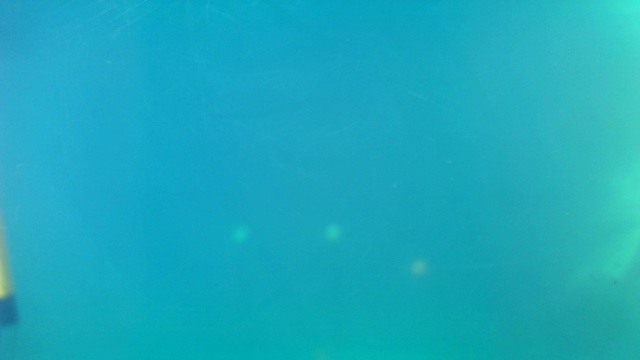buoy_red: (411, 258, 428, 276)
